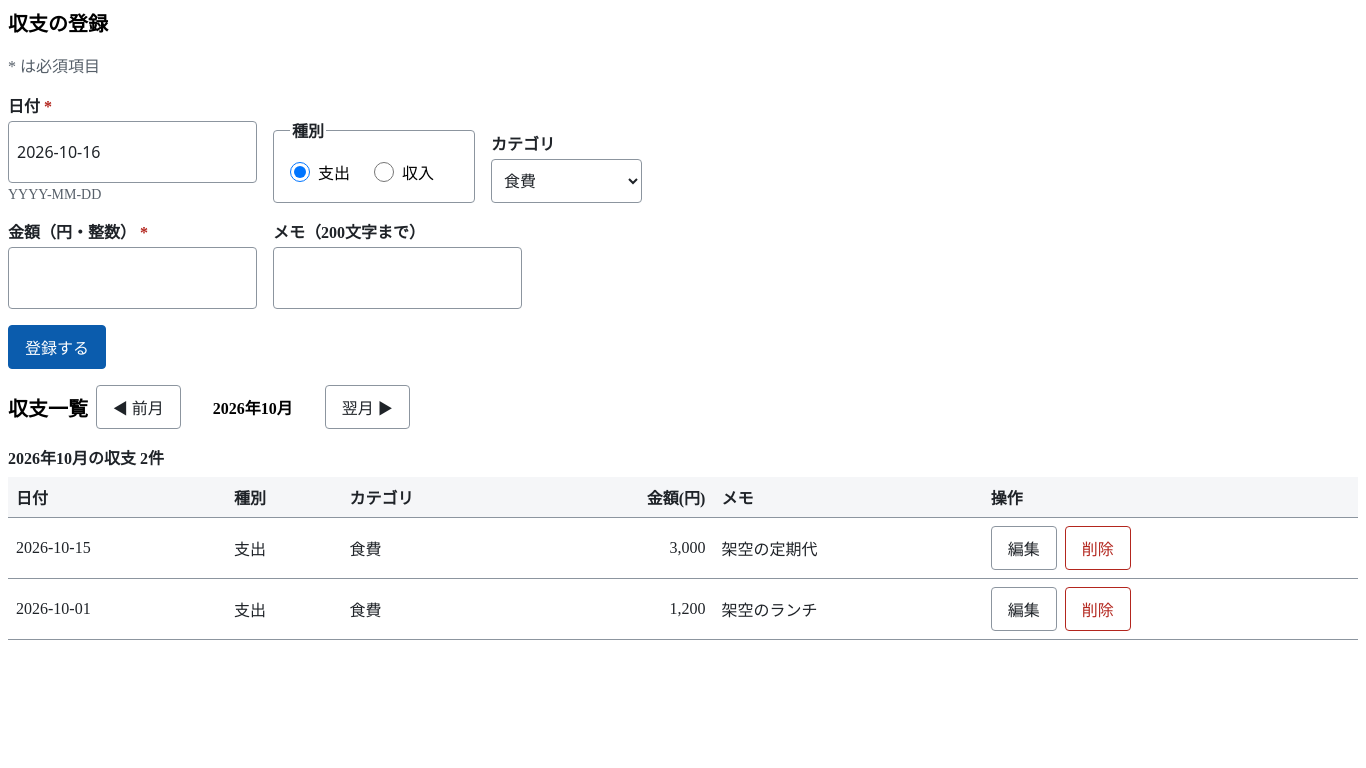
Test: 収支タブ › 削除を確定すると行を消し、知らせを出し、次の行の「削除」へフォーカスを移す（BR2.5）
The image size is (1366, 768).
What coordinates should you click on to do the following:
click the button with aria-label "2026-10-15 食費 3,000円 を削除"
I would click on:
 (1098, 548)
Its box is [1065,526,1131,570].
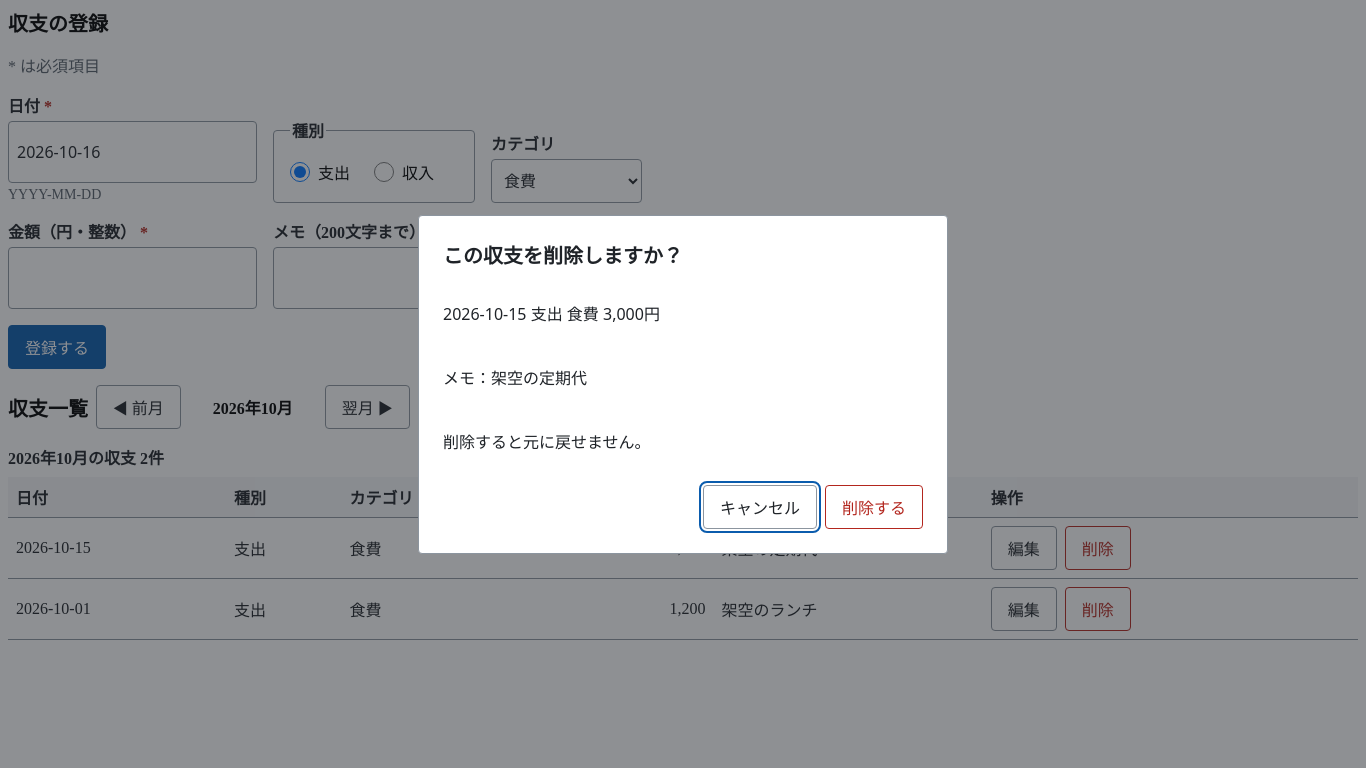
What coordinates should you click on to do the following:
click the button "削除する"
I would click on:
 (874, 506)
Its box is [825,484,923,528].
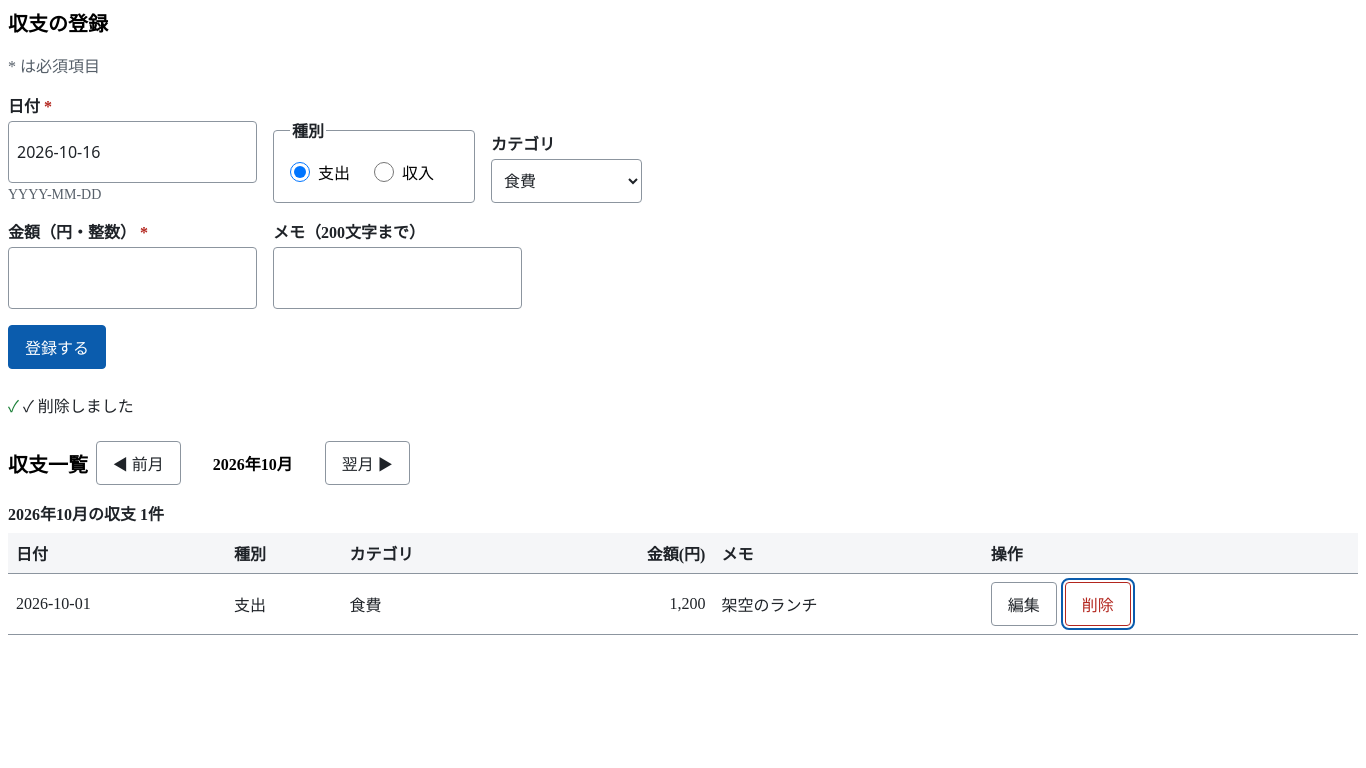
Result: the text "✓ 削除しました" is shown at [23,398,134,415]
Result: the table "2026年10月の収支 1件" is shown at [8,493,1358,635]
